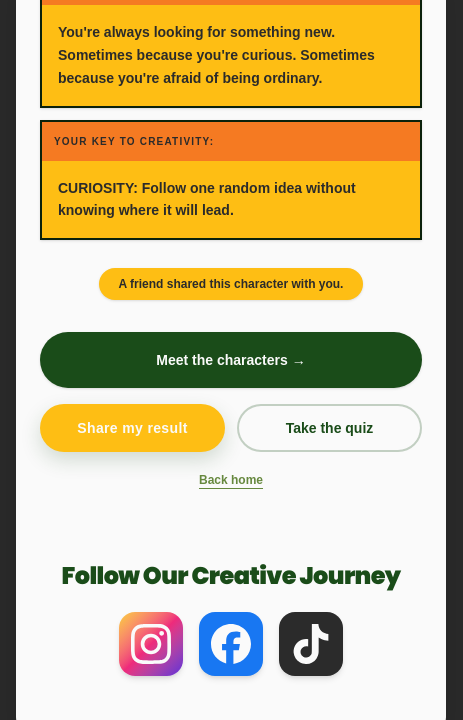
Test case: character gallery › lets shared-link visitors browse without exposing scores from a saved quiz
(page scrolled)
Click the button "Meet the characters →".
click(231, 360)  # box x1=40 y1=332 x2=422 y2=388
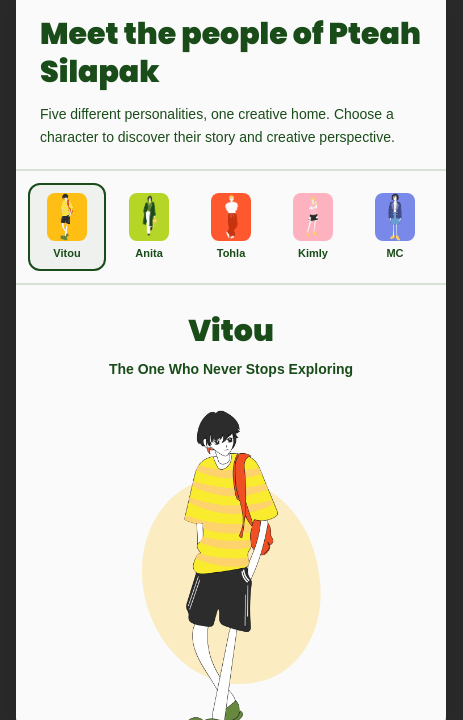
Expected: the element named "Choose a character" does not show "%", x1=28 y1=182 x2=434 y2=270
Now the number of tabs is 5
Now the tab "Vitou" is shown, box x1=28 y1=182 x2=106 y2=270
Click the tab "Anita".
click(149, 226)  # box x1=110 y1=182 x2=188 y2=270
(page scrolled)
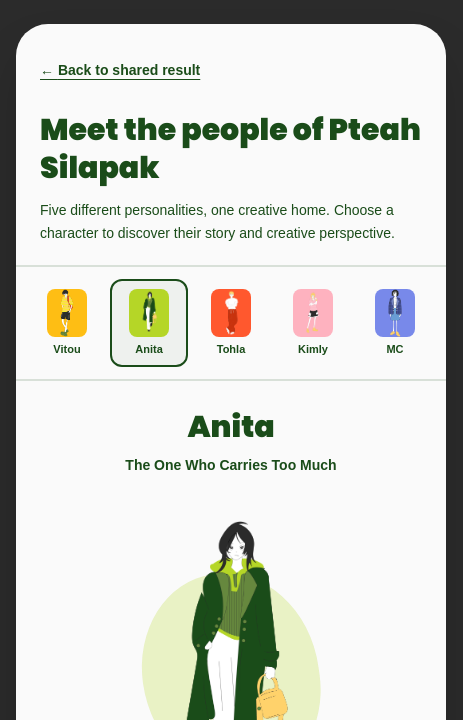
Click the button "← Back to shared result".
click(120, 70)  # box x1=40 y1=48 x2=200 y2=92
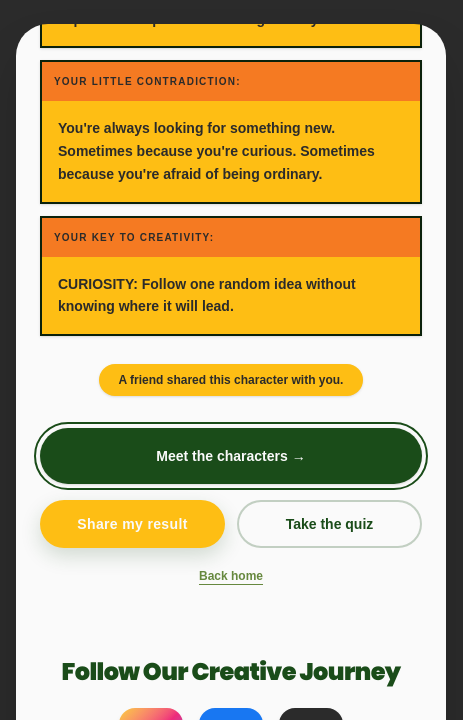
Now the text "A friend shared this character with you." is shown, box x1=98 y1=364 x2=364 y2=396
